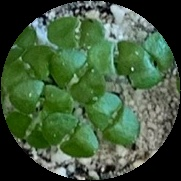Basil: (89, 94, 138, 144), (132, 33, 172, 88), (55, 54, 99, 100), (3, 50, 52, 91), (47, 118, 94, 155), (17, 82, 74, 110), (8, 110, 53, 145), (91, 41, 140, 72), (50, 20, 106, 44)
